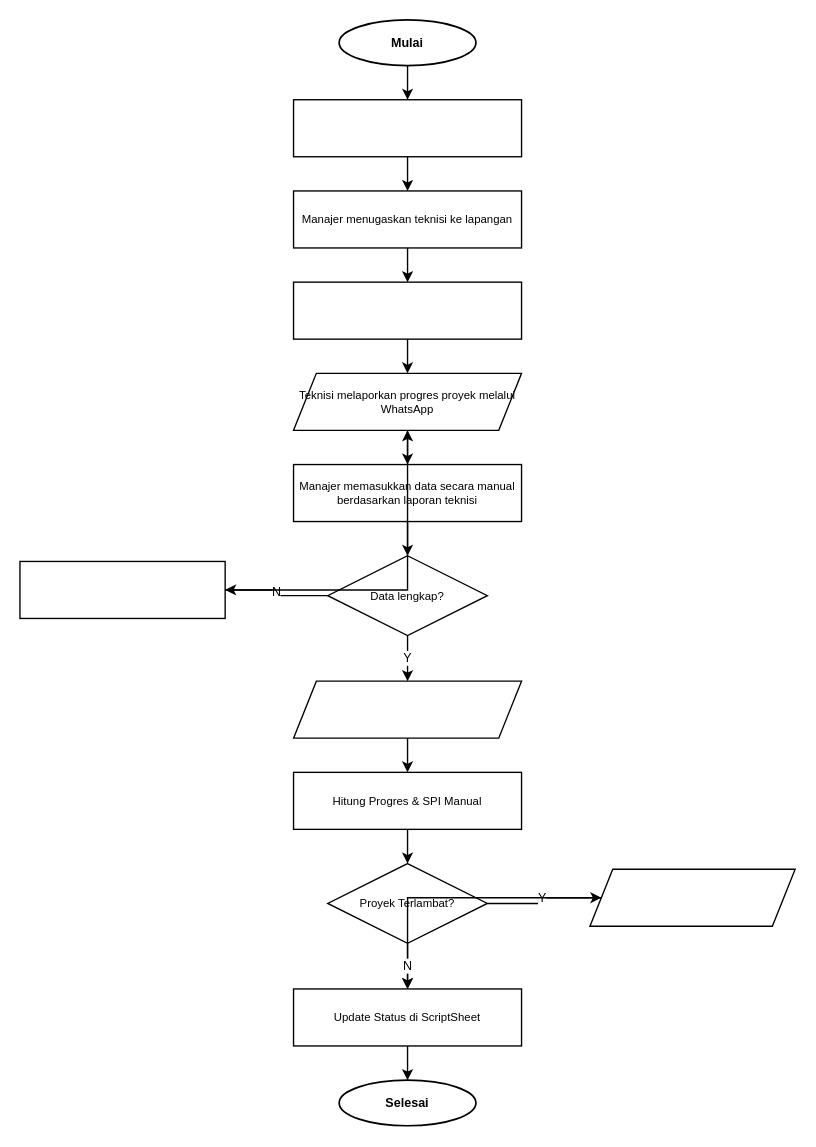
The diagram is 816 pixels wide and 1147 high, and some of its shapes have lost their labels. Here are the shapes that lost their labels. From the top down, the centre of each, then its label:
point (407, 127): Manajer buat data proyek di ScriptSheet
point (407, 310): Teknisi mengerjakan proyek
point (122, 589): Minta tambahan data ke teknisi
point (407, 709): Manajer menganalisis data proyek secara manual
point (692, 897): Hubungi Teknisi via WhatsApp
